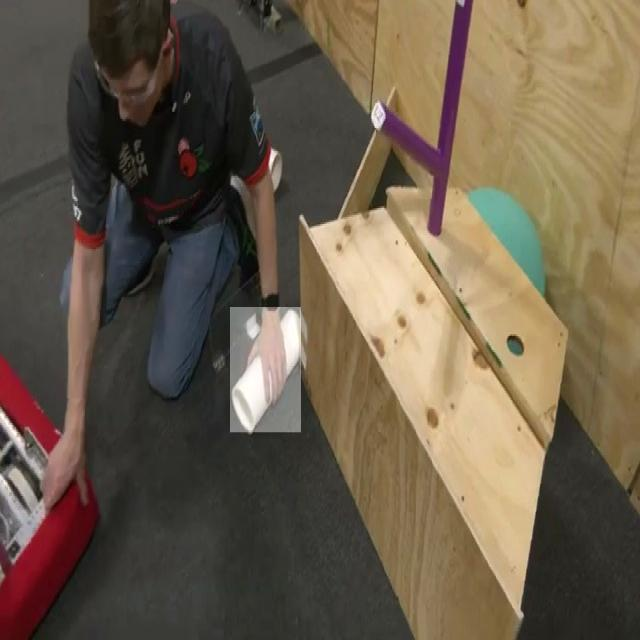Coral: (230, 307, 301, 433)
